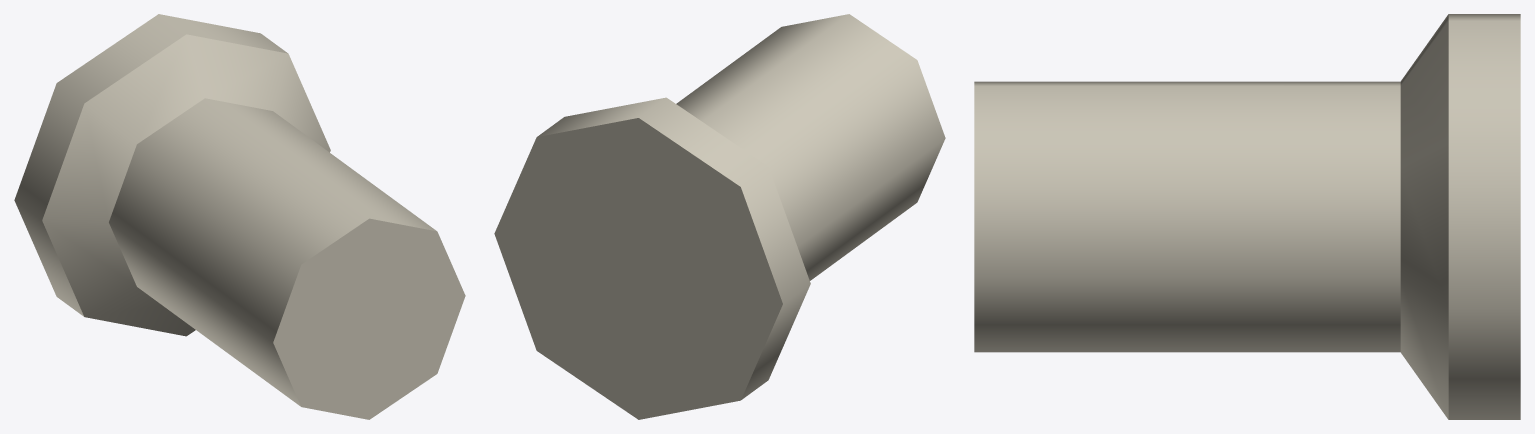
The model's file is u73l_busbar.obj.
3 views of the same model, side by side, from view 1: azimuth 30°, elevation 25°; view 2: azimuth 150°, elevation 25°; view 3: azimuth 270°, elevation 25° (orthographic). The views are drawn at different scales.
Visible parts, largest first — view 1: u73l_busbar; view 2: u73l_busbar; view 3: u73l_busbar.
Part boxes in pixels (left/top/right/bottom): u73l_busbar: left=14, top=14, right=465, bottom=419; u73l_busbar: left=494, top=14, right=945, bottom=419; u73l_busbar: left=974, top=14, right=1520, bottom=419.
Bounding box in the file's own units: 0.72 × 0.72 × 0.91.
